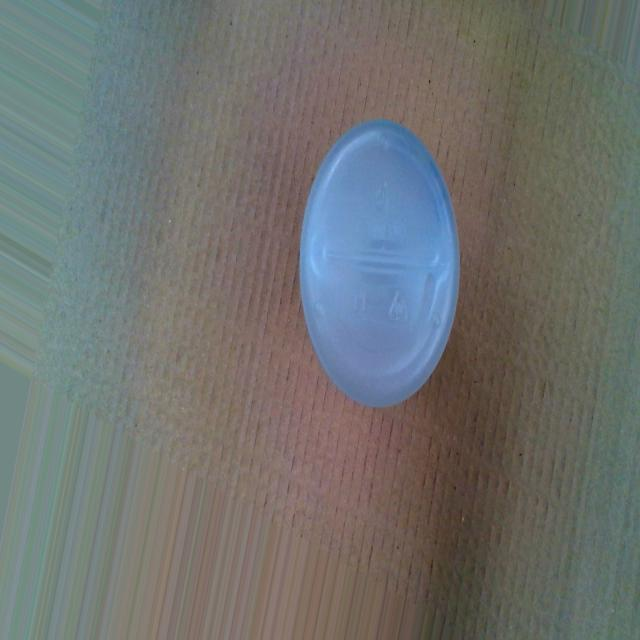bottle: (297, 111, 463, 418)
